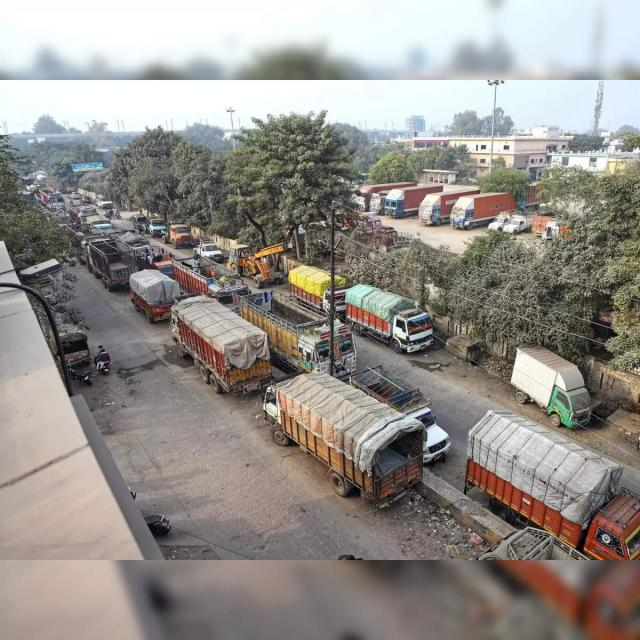truck: (465, 410, 640, 559), (262, 374, 426, 506), (170, 294, 271, 392), (239, 291, 329, 372), (511, 348, 591, 428), (346, 284, 434, 352), (172, 258, 250, 314), (130, 269, 181, 323), (228, 244, 286, 288), (450, 192, 516, 229), (419, 189, 480, 225), (385, 184, 444, 218), (289, 265, 330, 312), (162, 224, 196, 248)
